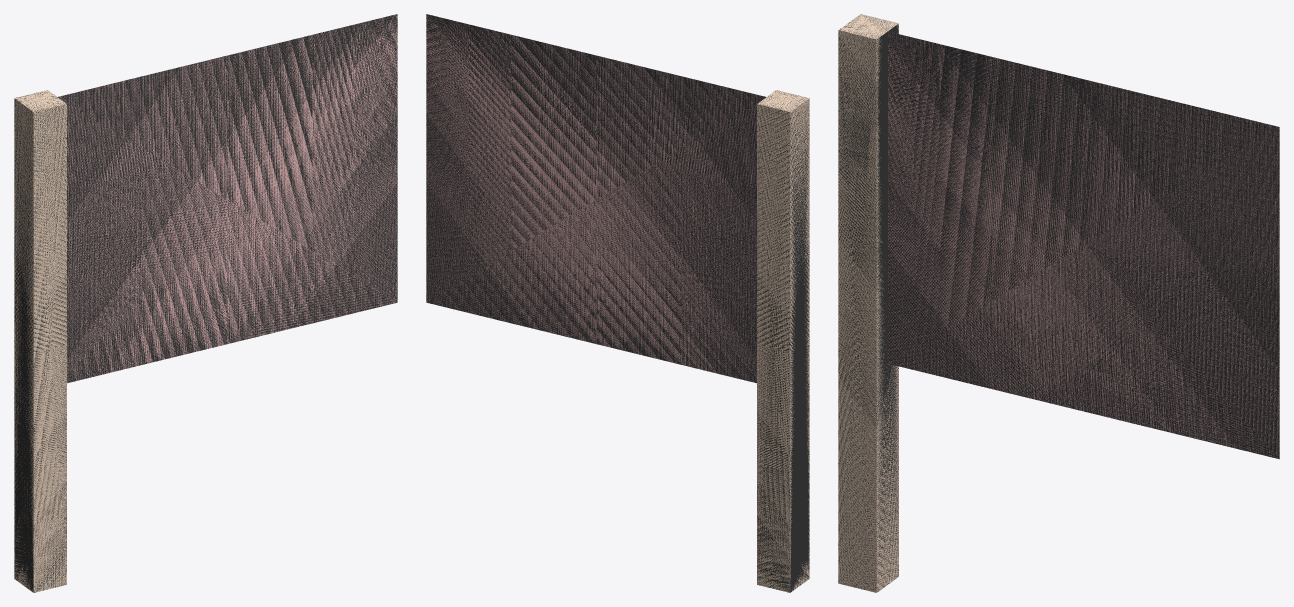
The model's file is Abstract_Modular_Flag_Beige_01.fbx.
3 views of the same model, side by side, from view 1: azimuth 30°, elevation 25°; view 2: azimuth 150°, elevation 25°; view 3: azimuth 330°, elevation 25° (orthographic). The views are drawn at different scales.
Parts seen in each view (by area): view 1: Abstract_Modular_Flag_Beige_01; view 2: Abstract_Modular_Flag_Beige_01; view 3: Abstract_Modular_Flag_Beige_01.
Part boxes in pixels (x1,y1,x2,y2): Abstract_Modular_Flag_Beige_01: [14, 14, 397, 592]; Abstract_Modular_Flag_Beige_01: [426, 14, 809, 592]; Abstract_Modular_Flag_Beige_01: [838, 14, 1279, 592].
Bounding box in the file's own units: 51.31 × 63.1 × 4.57.
